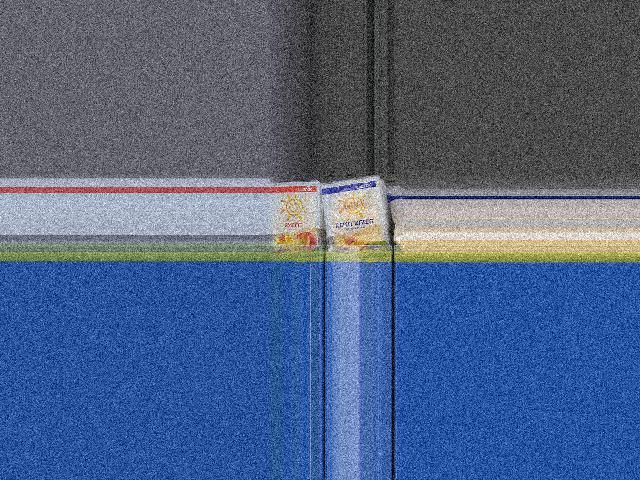cheese: (266, 176, 321, 262)
